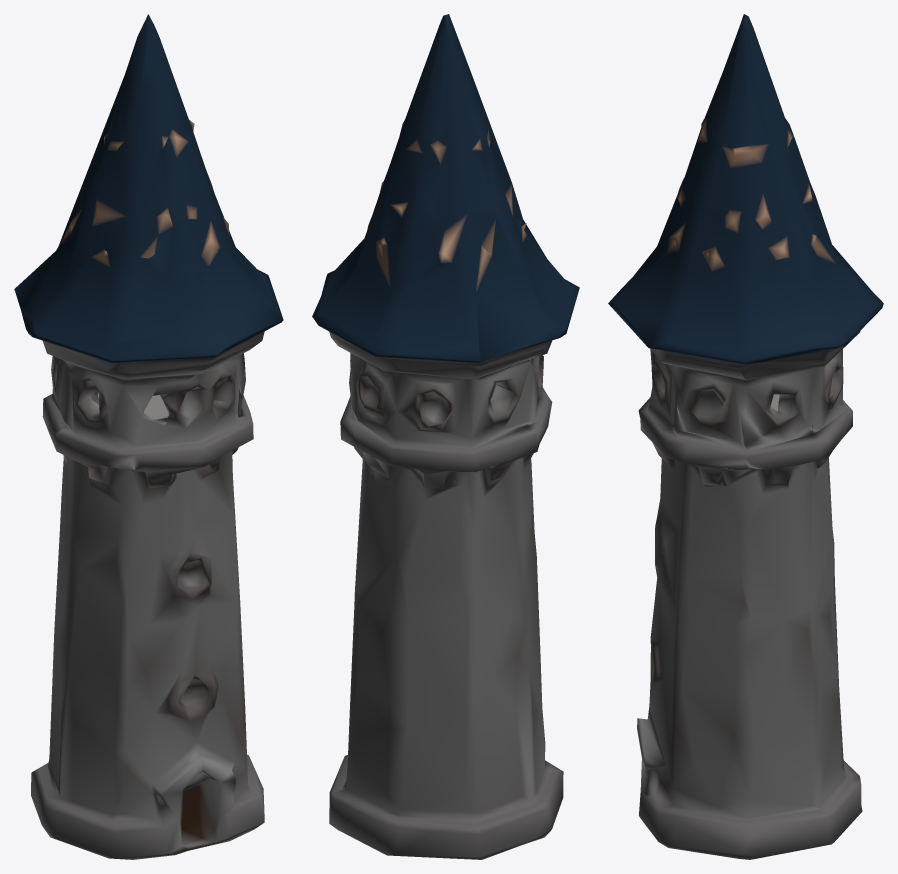
File: gen3d-wizard-tower-lod0.glb
3 views of the same model, side by side, from view 1: azimuth 30°, elevation 25°; view 2: azimuth 150°, elevation 25°; view 3: azimuth 270°, elevation 25° (orthographic).
Visible parts, largest first — view 1: part_0; view 2: part_0; view 3: part_0.
Part boxes in pixels (x1,y1,x2,y2): part_0: (14, 14, 283, 859); part_0: (312, 14, 579, 859); part_0: (608, 14, 883, 859).
Size of the model in its own units: 0.3102 by 0.9958 by 0.3124.
